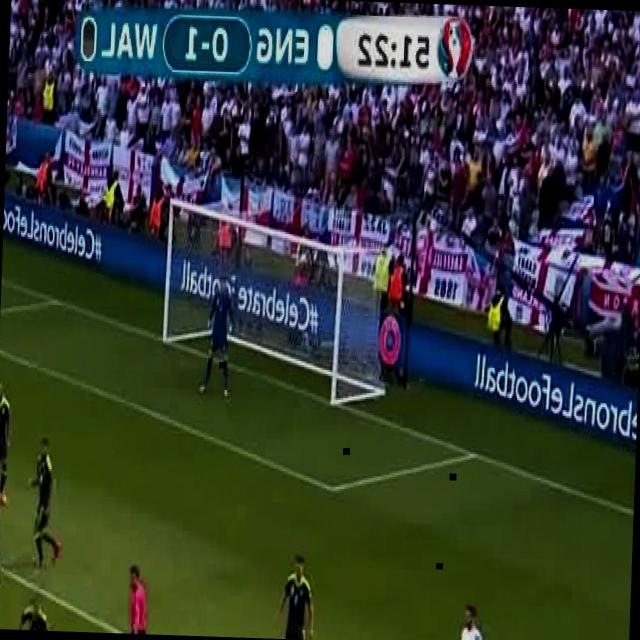player-white: (27, 438, 65, 574), (198, 278, 236, 398), (278, 552, 316, 640), (127, 564, 153, 634), (0, 381, 14, 506), (448, 603, 484, 640), (20, 594, 54, 631), (0, 453, 4, 581)
